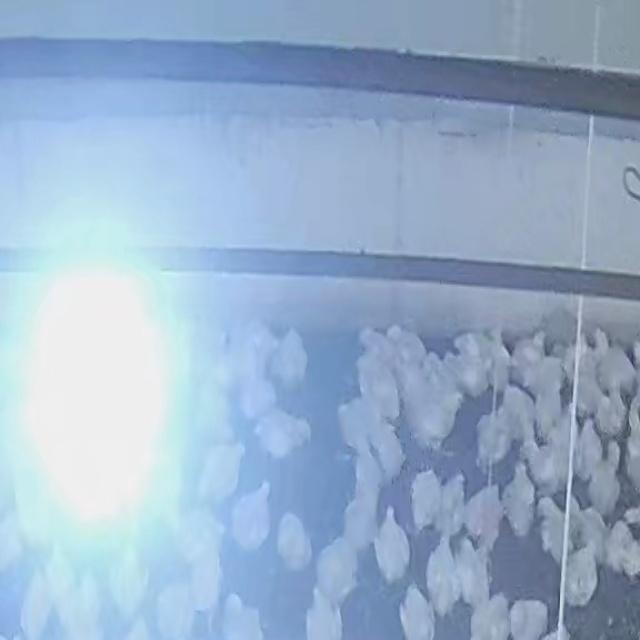chicken: (230, 477, 274, 556), (371, 506, 412, 586), (196, 440, 246, 503), (252, 408, 313, 459), (315, 536, 360, 605), (424, 533, 462, 613), (461, 481, 504, 550), (187, 536, 226, 612), (450, 535, 489, 611), (582, 441, 620, 517), (340, 486, 380, 558), (500, 462, 538, 536), (109, 548, 147, 622), (560, 541, 601, 608), (154, 579, 200, 636), (237, 362, 280, 422), (20, 570, 55, 639), (272, 326, 310, 389), (276, 512, 312, 578), (408, 468, 445, 531), (217, 593, 264, 639), (467, 592, 511, 640), (398, 586, 434, 640), (507, 598, 549, 640), (305, 593, 340, 639)
